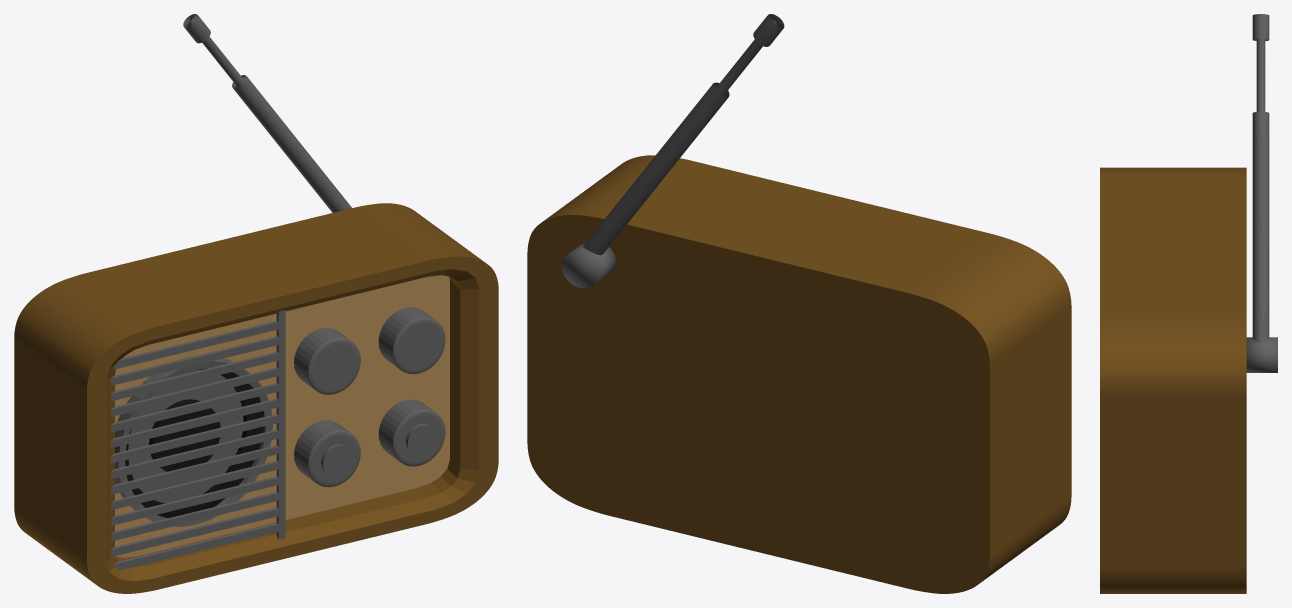
Rendered from radio.fbx.
The picture shows the model from 3 angles, left to right: view 1: azimuth 30°, elevation 25°; view 2: azimuth 150°, elevation 25°; view 3: azimuth 270°, elevation 25°; orthographic projection. The views are drawn at different scales.
Parts seen in each view (by area): view 1: Cube.001, Plane, Cube.006, Cylinder.004, Cylinder.003, Cylinder.001, Plane.001; view 2: Cube.001, Cylinder.001, Cylinder.002; view 3: Cube.001, Cylinder.001, Cylinder.002.
Part boxes in pixels (<box>): Cube.001: <box>14,203,498,593</box>; Plane: <box>111,320,279,570</box>; Cube.006: <box>115,356,272,526</box>; Cylinder.004: <box>294,399,445,487</box>; Cylinder.003: <box>294,307,445,394</box>; Cylinder.001: <box>183,14,351,212</box>; Plane.001: <box>276,310,285,539</box>; Cube.001: <box>527,155,1071,593</box>; Cylinder.001: <box>583,14,784,255</box>; Cylinder.002: <box>561,241,616,288</box>; Cube.001: <box>1100,167,1246,593</box>; Cylinder.001: <box>1252,14,1269,342</box>; Cylinder.002: <box>1246,337,1277,372</box>.
Size of the model in its own units: 327 by 370 by 121.
